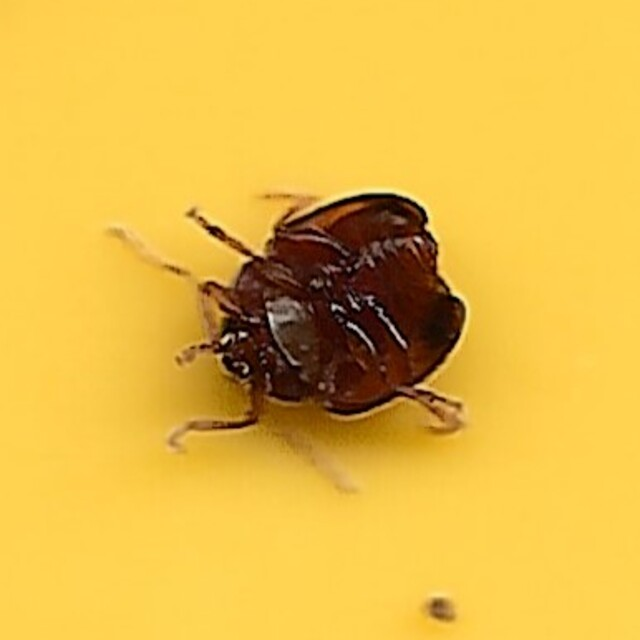Coleoptera: (166, 186, 474, 454)
